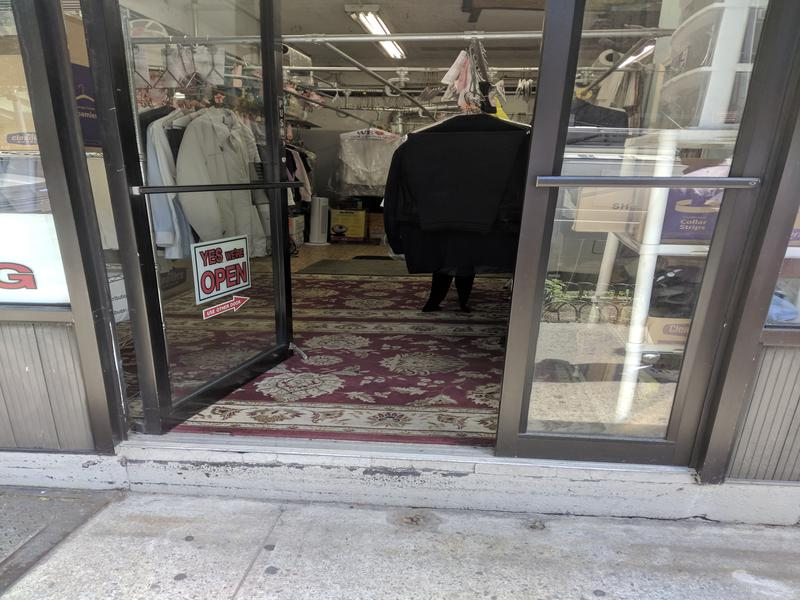door: (77, 7, 313, 431)
